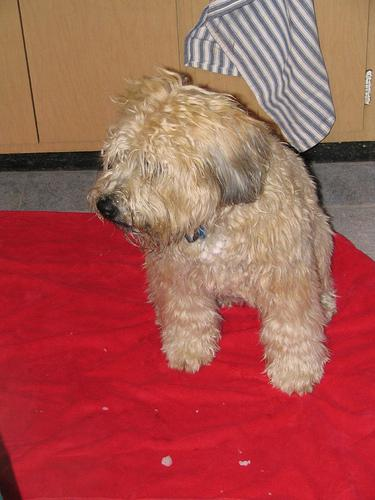dog: (87, 84, 265, 230)
